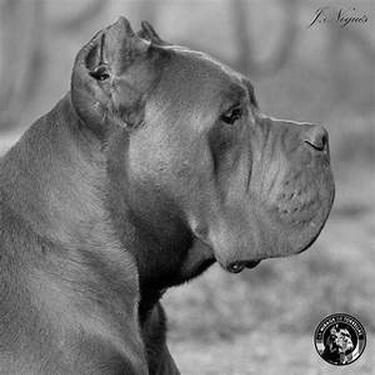dog: (1, 16, 339, 372)
